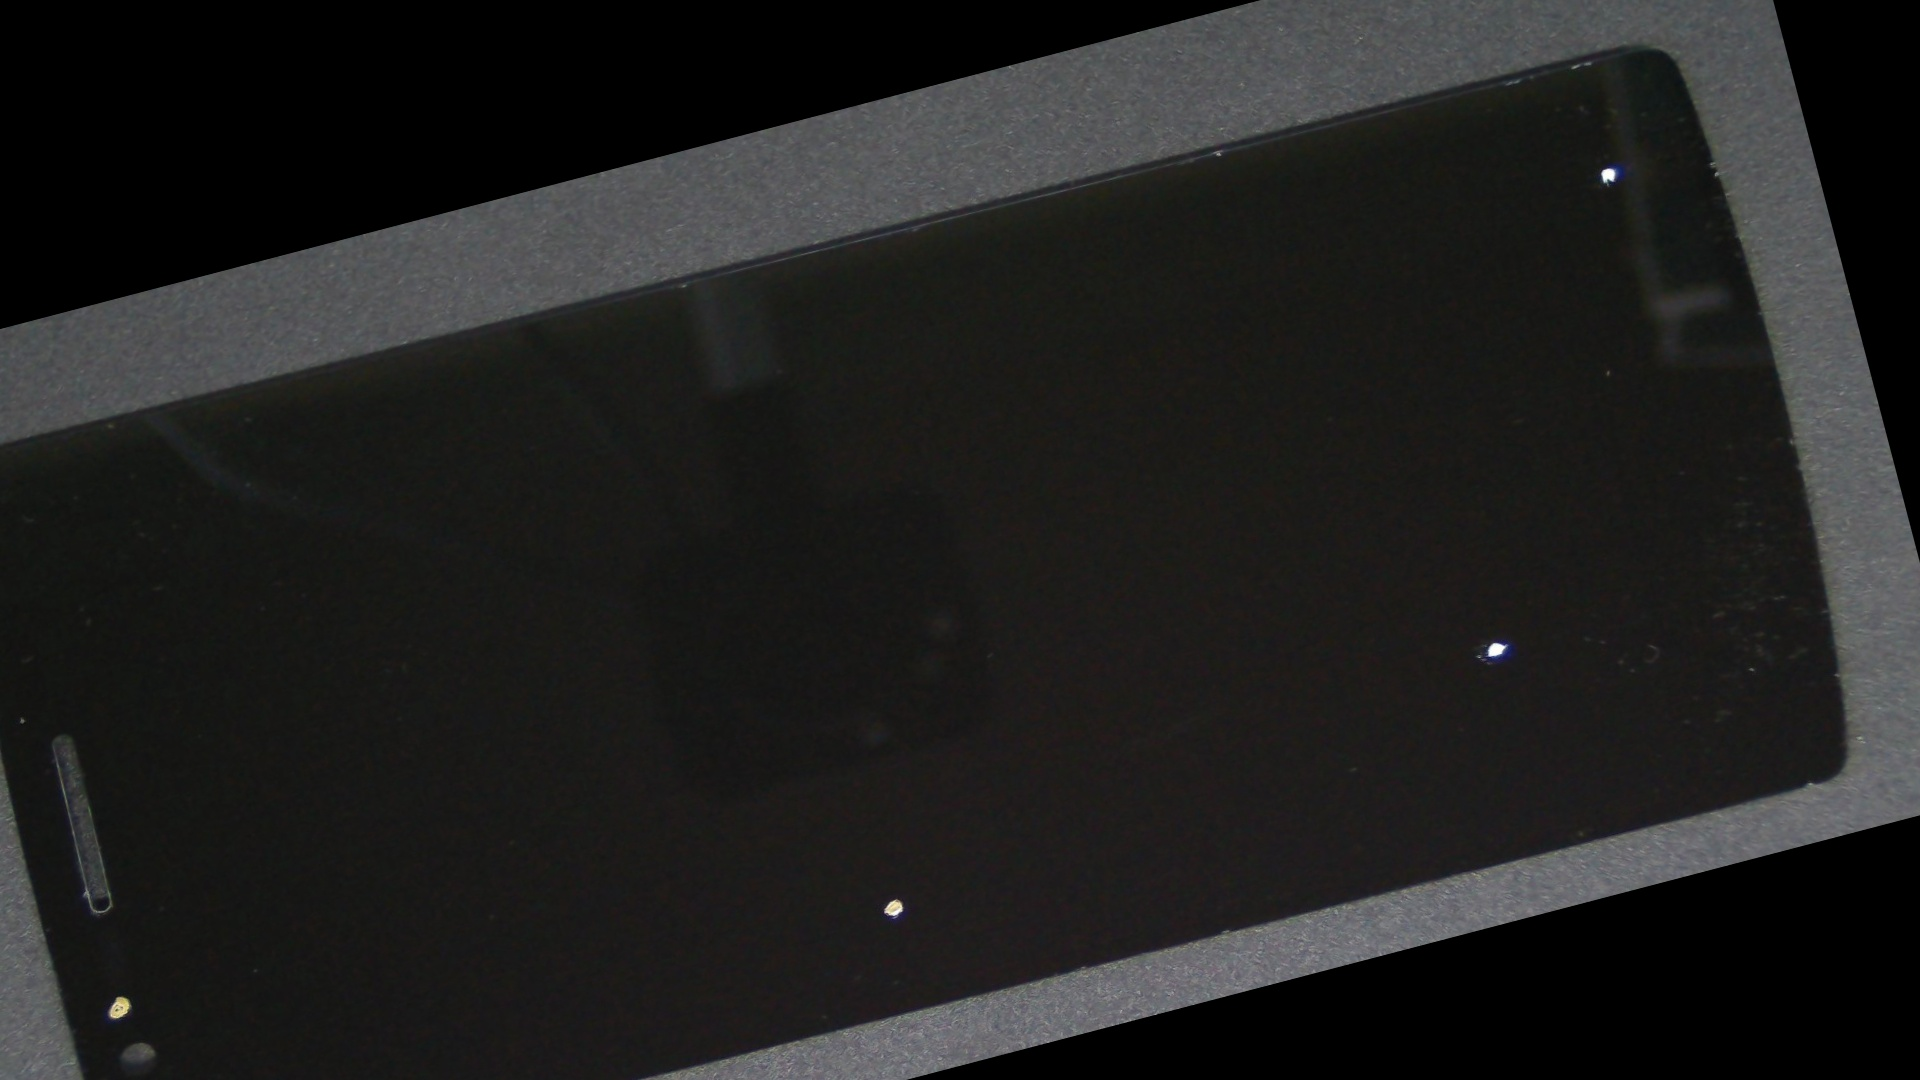oil: (644, 202, 1920, 1080), (344, 404, 1391, 1080), (703, 0, 1834, 516), (0, 649, 265, 1080)
